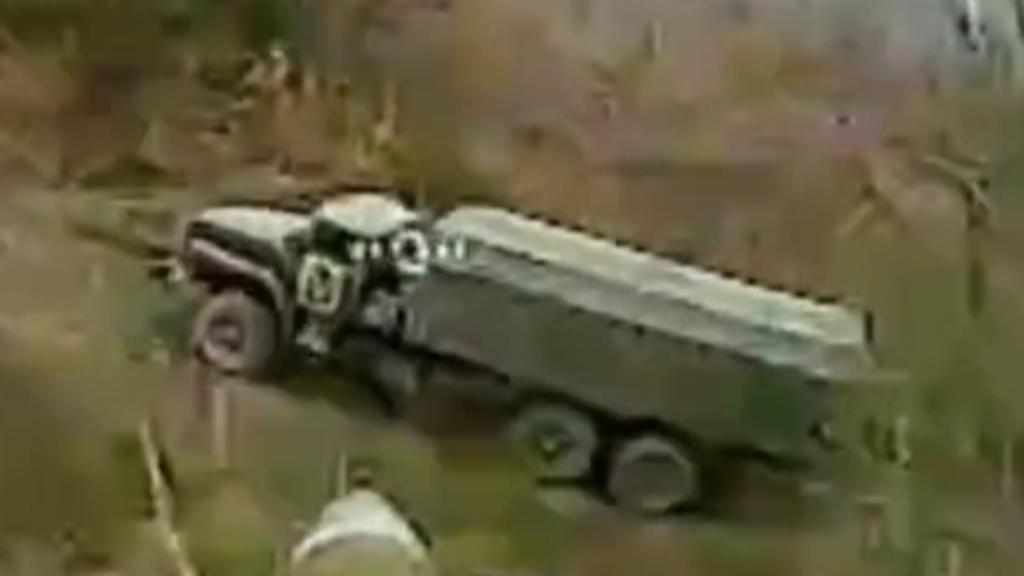TRUCK: (146, 179, 872, 518)
